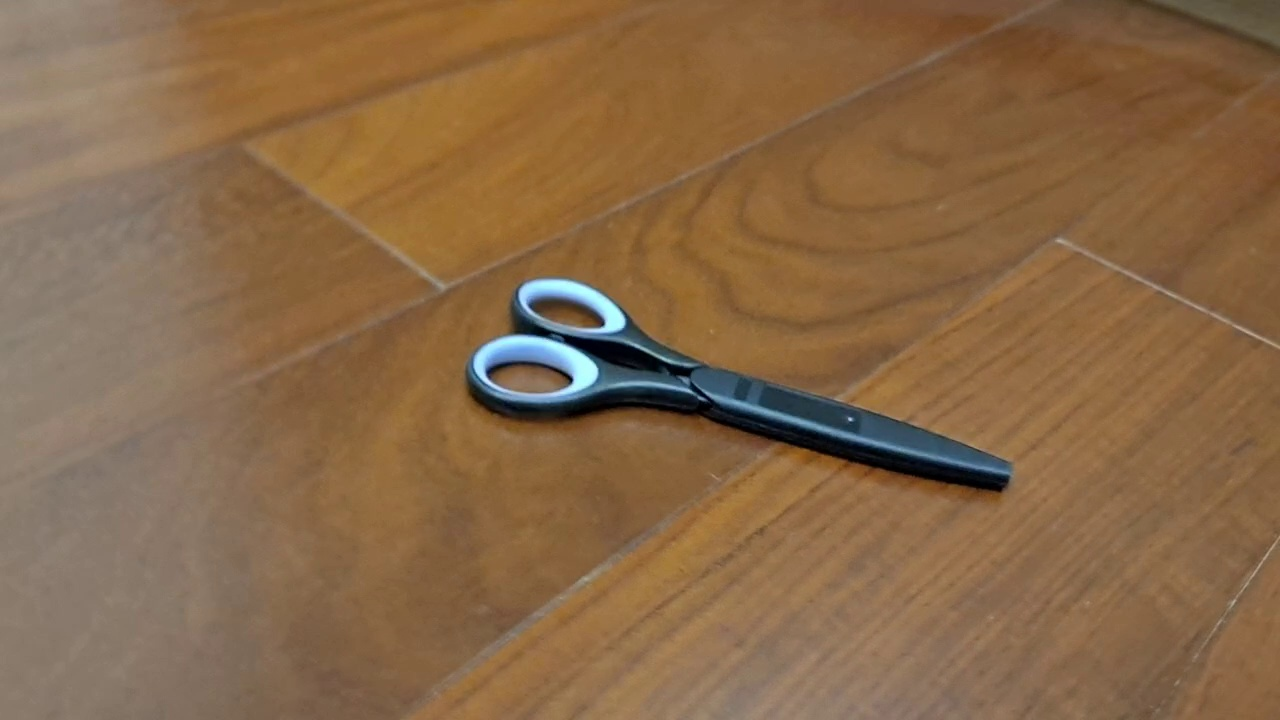scissors: (464, 274, 1013, 493)
